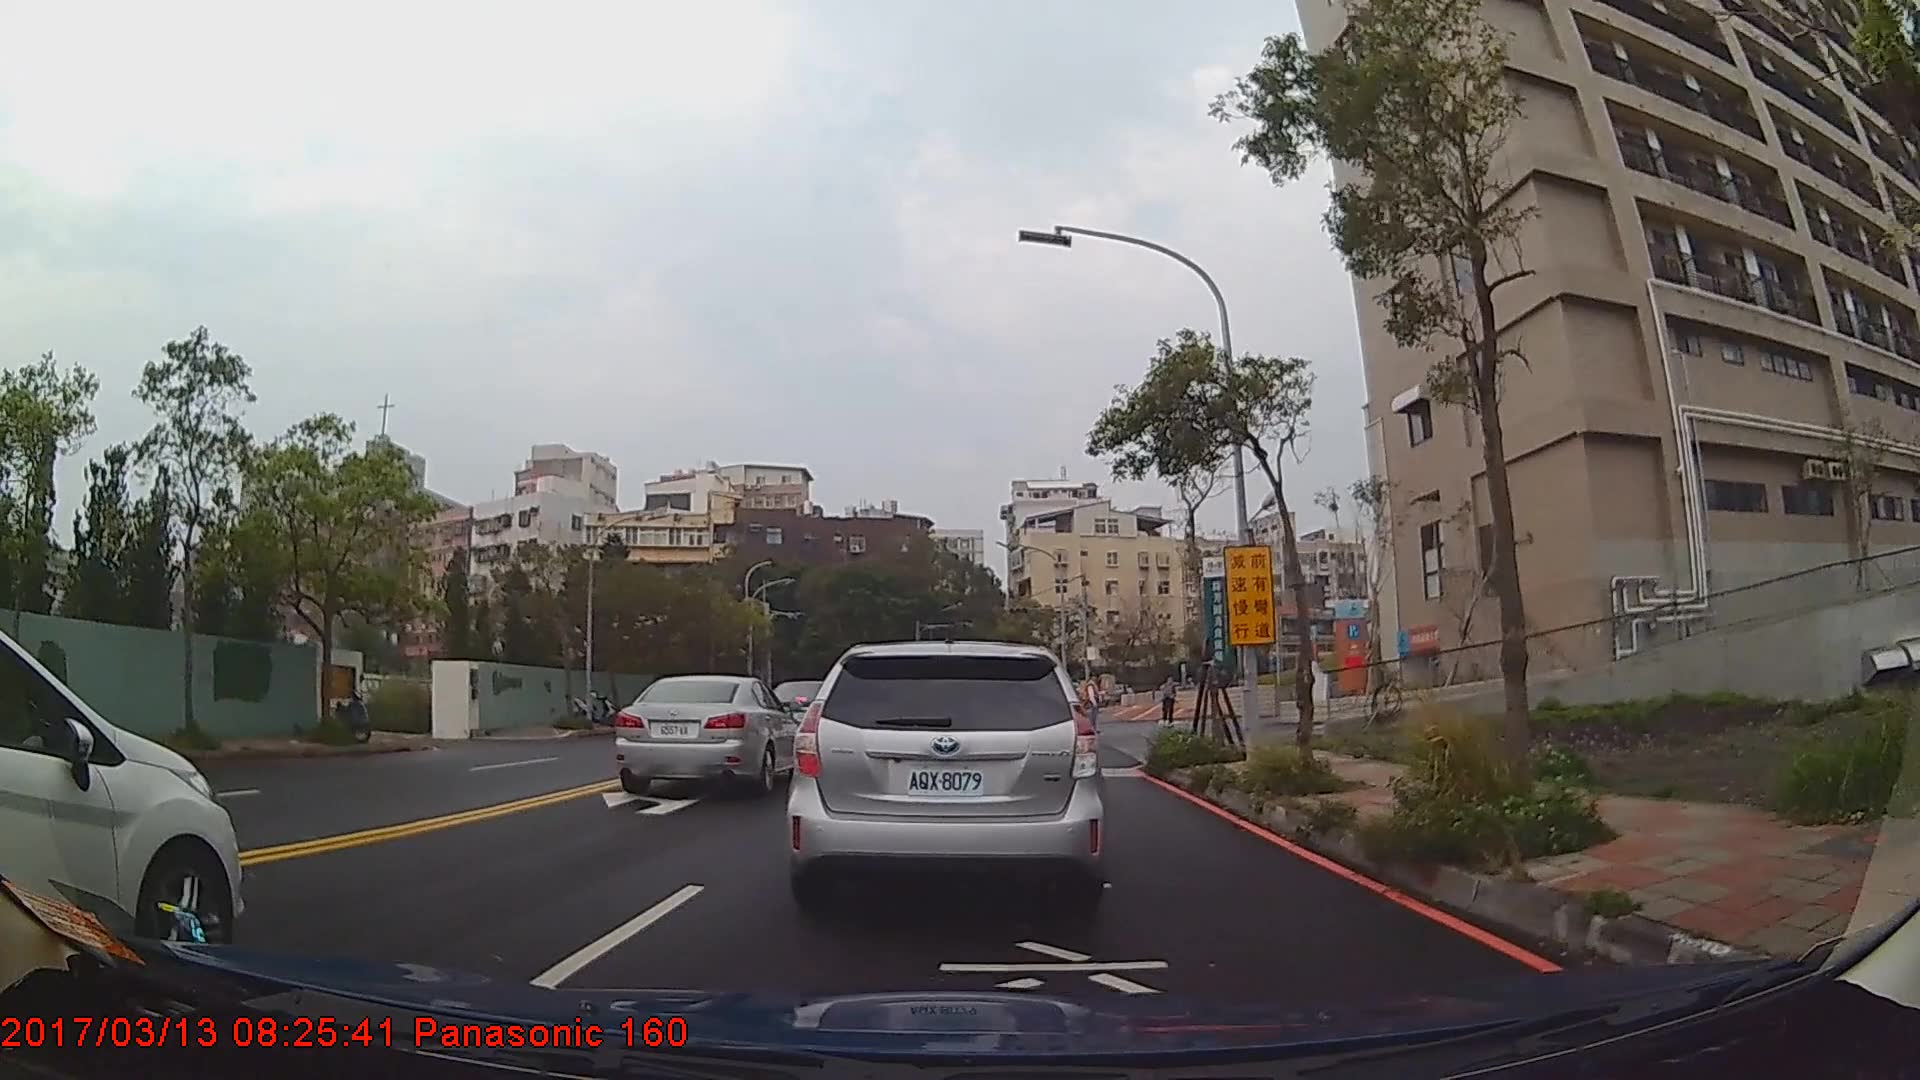pedestrian: (1083, 668, 1108, 740)
vehicle: (783, 637, 1109, 926), (0, 627, 246, 965), (615, 674, 802, 794)
